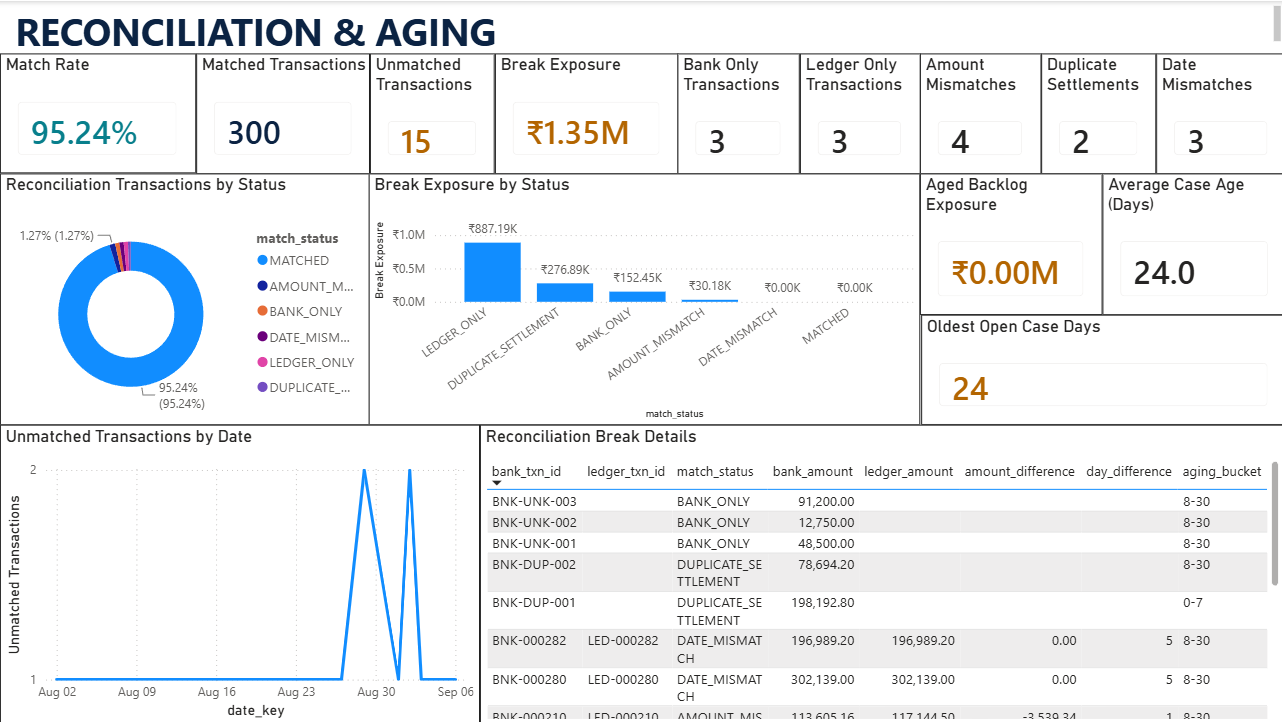

The page's visual inventory and layout, read from the dashboard file:
{"tool":"powerbi","page":{"name":"Reconciliation and Aging","canvas":[1280,720],"ordinal":3},"visuals":[{"type":"textbox","box":[10,0,1270.4,51.7],"z":0},{"type":"cardVisual","title":"Match Rate","fields":{"Data":["rpt_fact_reconciliation.Reconciliation Match Rate %"]},"box":[0,51.7,194.8,119.4],"z":1000},{"type":"cardVisual","title":"Matched Transactions","fields":{"Data":["rpt_fact_reconciliation.Matched Transactions"]},"box":[195,51.7,173.2,119.7],"z":2000},{"type":"cardVisual","title":"Unmatched Transactions","fields":{"Data":["rpt_fact_reconciliation.Unmatched Transactions"]},"box":[368.2,51.7,124.2,119.7],"z":3000},{"type":"cardVisual","title":"Break Exposure","fields":{"Data":["rpt_fact_reconciliation.Break Exposure"]},"box":[492.4,51.7,182.3,119.7],"z":4000},{"type":"cardVisual","title":"Bank Only Transactions","fields":{"Data":["rpt_fact_reconciliation.Bank Only Transactions"]},"box":[674.7,51.7,121.5,119.7],"z":5000},{"type":"cardVisual","title":"Ledger Only Transactions","fields":{"Data":["rpt_fact_reconciliation.Ledger Only Transactions"]},"box":[796.2,51.7,119.7,119.7],"z":6000},{"type":"cardVisual","title":"Amount Mismatches","fields":{"Data":["rpt_fact_reconciliation.Amount Mismatches"]},"box":[915.9,51.7,120.6,119.7],"z":7000},{"type":"cardVisual","title":"Date Mismatches","fields":{"Data":["rpt_fact_reconciliation.Date Mismatches"]},"box":[1150.7,51.7,129.7,119.7],"z":8000},{"type":"cardVisual","title":"Duplicate Settlements","fields":{"Data":["rpt_fact_reconciliation.Duplicate Settlements"]},"box":[1036.5,51.7,114.3,119.7],"z":9000},{"type":"donutChart","title":"Reconciliation Transactions by Status","fields":{"Category":["rpt_fact_reconciliation.match_status"],"Y":["CountNonNull(rpt_fact_reconciliation.match_status)"]},"box":[0,171.4,368.2,250.3],"z":10000},{"type":"clusteredColumnChart","title":"Break Exposure by Status","fields":{"Category":["rpt_fact_reconciliation.match_status"],"Y":["rpt_fact_reconciliation.Break Exposure"]},"box":[367.3,171.4,548.6,250.3],"z":11000},{"type":"cardVisual","title":"Average Case Age (Days)","fields":{"Data":["rpt_fact_findings.Average Case Age Days"]},"box":[1097.2,171.4,183.2,140.6],"z":12000},{"type":"cardVisual","title":"Oldest Open Case Days","fields":{"Data":["rpt_fact_findings.Oldest Open Case Days"]},"box":[916.8,312.2,363.2,109.5],"z":13000},{"type":"cardVisual","title":"Aged Backlog Exposure","fields":{"Data":["rpt_fact_findings.Aged Backlog Exposure"]},"box":[915.9,171.4,181.4,140.6],"z":14000},{"type":"tableEx","title":"Reconciliation Break Details","fields":{"Values":["rpt_fact_reconciliation.bank_txn_id","rpt_fact_reconciliation.ledger_txn_id","rpt_fact_reconciliation.match_status","rpt_fact_reconciliation.bank_amount","rpt_fact_reconciliation.ledger_amount","rpt_fact_reconciliation.amount_difference","rpt_fact_reconciliation.day_difference","rpt_fact_reconciliation.aging_bucket"]},"box":[477.6,421.2,802.4,298.6],"z":15000},{"type":"lineChart","title":"Unmatched Transactions by Date","fields":{"Category":["rpt_dim_date.date_key"],"Y":["rpt_fact_reconciliation.Unmatched Transactions"]},"box":[0,421.2,477.6,298.6],"z":16000}]}

Visuals, with their boxes in screenshot pixels (x1, y1, x2, y2), scaled from the page's 1280x720 canvas onto the 1282x722 screenshot:
textbox: {"left": 10, "top": 0, "right": 1281, "bottom": 52}
"Match Rate" cardVisual: {"left": 0, "top": 52, "right": 195, "bottom": 172}
"Matched Transactions" cardVisual: {"left": 195, "top": 52, "right": 369, "bottom": 172}
"Unmatched Transactions" cardVisual: {"left": 369, "top": 52, "right": 493, "bottom": 172}
"Break Exposure" cardVisual: {"left": 493, "top": 52, "right": 676, "bottom": 172}
"Bank Only Transactions" cardVisual: {"left": 676, "top": 52, "right": 797, "bottom": 172}
"Ledger Only Transactions" cardVisual: {"left": 797, "top": 52, "right": 917, "bottom": 172}
"Amount Mismatches" cardVisual: {"left": 917, "top": 52, "right": 1038, "bottom": 172}
"Date Mismatches" cardVisual: {"left": 1152, "top": 52, "right": 1281, "bottom": 172}
"Duplicate Settlements" cardVisual: {"left": 1038, "top": 52, "right": 1153, "bottom": 172}
"Reconciliation Transactions by Status" donutChart: {"left": 0, "top": 172, "right": 369, "bottom": 423}
"Break Exposure by Status" clusteredColumnChart: {"left": 368, "top": 172, "right": 917, "bottom": 423}
"Average Case Age (Days)" cardVisual: {"left": 1099, "top": 172, "right": 1281, "bottom": 313}
"Oldest Open Case Days" cardVisual: {"left": 918, "top": 313, "right": 1281, "bottom": 423}
"Aged Backlog Exposure" cardVisual: {"left": 917, "top": 172, "right": 1099, "bottom": 313}
"Reconciliation Break Details" tableEx: {"left": 478, "top": 422, "right": 1281, "bottom": 721}
"Unmatched Transactions by Date" lineChart: {"left": 0, "top": 422, "right": 478, "bottom": 721}
